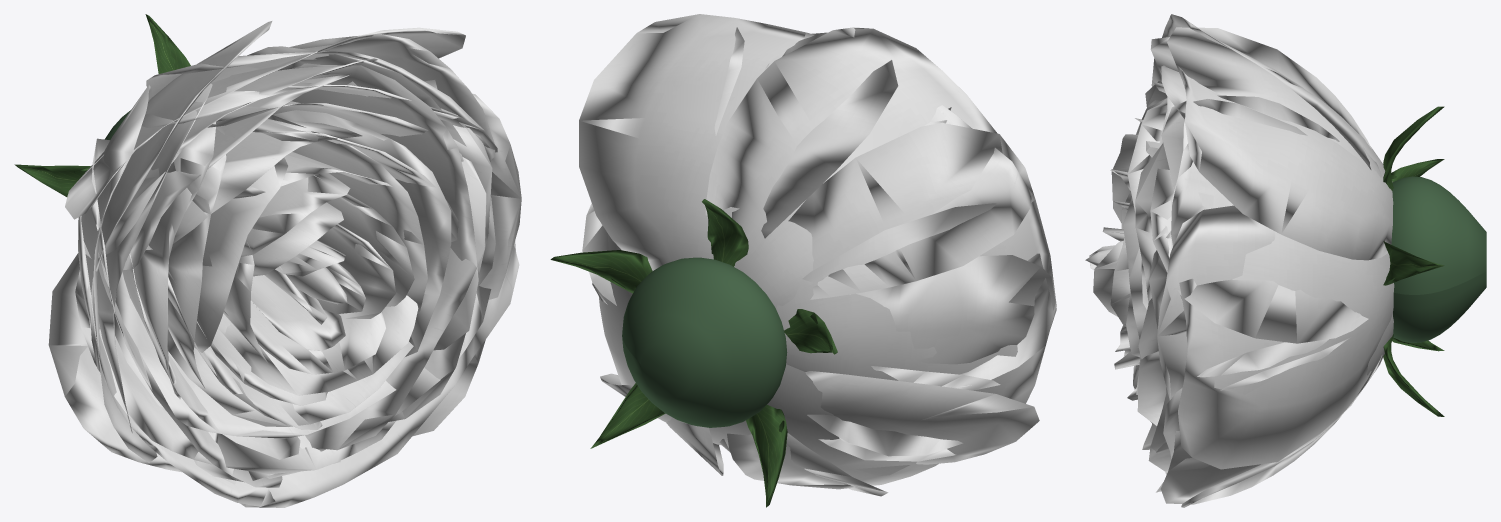
File: rose-2.glb
3 renders of one model, left to right at view 1: azimuth 30°, elevation 25°; view 2: azimuth 150°, elevation 25°; view 3: azimuth 270°, elevation 25°, orthographic. The views are drawn at different scales.
Parts seen in each view (by area): view 1: Rose_2_balanced_Petals, Rose_2_balanced_Sepals; view 2: Rose_2_balanced_Petals, Rose_2_balanced_Receptacle, Rose_2_balanced_Sepals; view 3: Rose_2_balanced_Petals, Rose_2_balanced_Receptacle, Rose_2_balanced_Sepals.
Boxes of the visible parts, left/top/right/bottom form: Rose_2_balanced_Petals: left=48, top=21, right=521, bottom=507; Rose_2_balanced_Sepals: left=14, top=14, right=190, bottom=196; Rose_2_balanced_Petals: left=579, top=14, right=1056, bottom=496; Rose_2_balanced_Receptacle: left=622, top=257, right=787, bottom=427; Rose_2_balanced_Sepals: left=550, top=199, right=837, bottom=507; Rose_2_balanced_Petals: left=1085, top=14, right=1394, bottom=507; Rose_2_balanced_Receptacle: left=1391, top=176, right=1486, bottom=342; Rose_2_balanced_Sepals: left=1383, top=106, right=1444, bottom=416.
Bounding box in the file's own units: 0.6069 × 0.6199 × 0.5047.
Materials: 3 (2 with a texture image).
